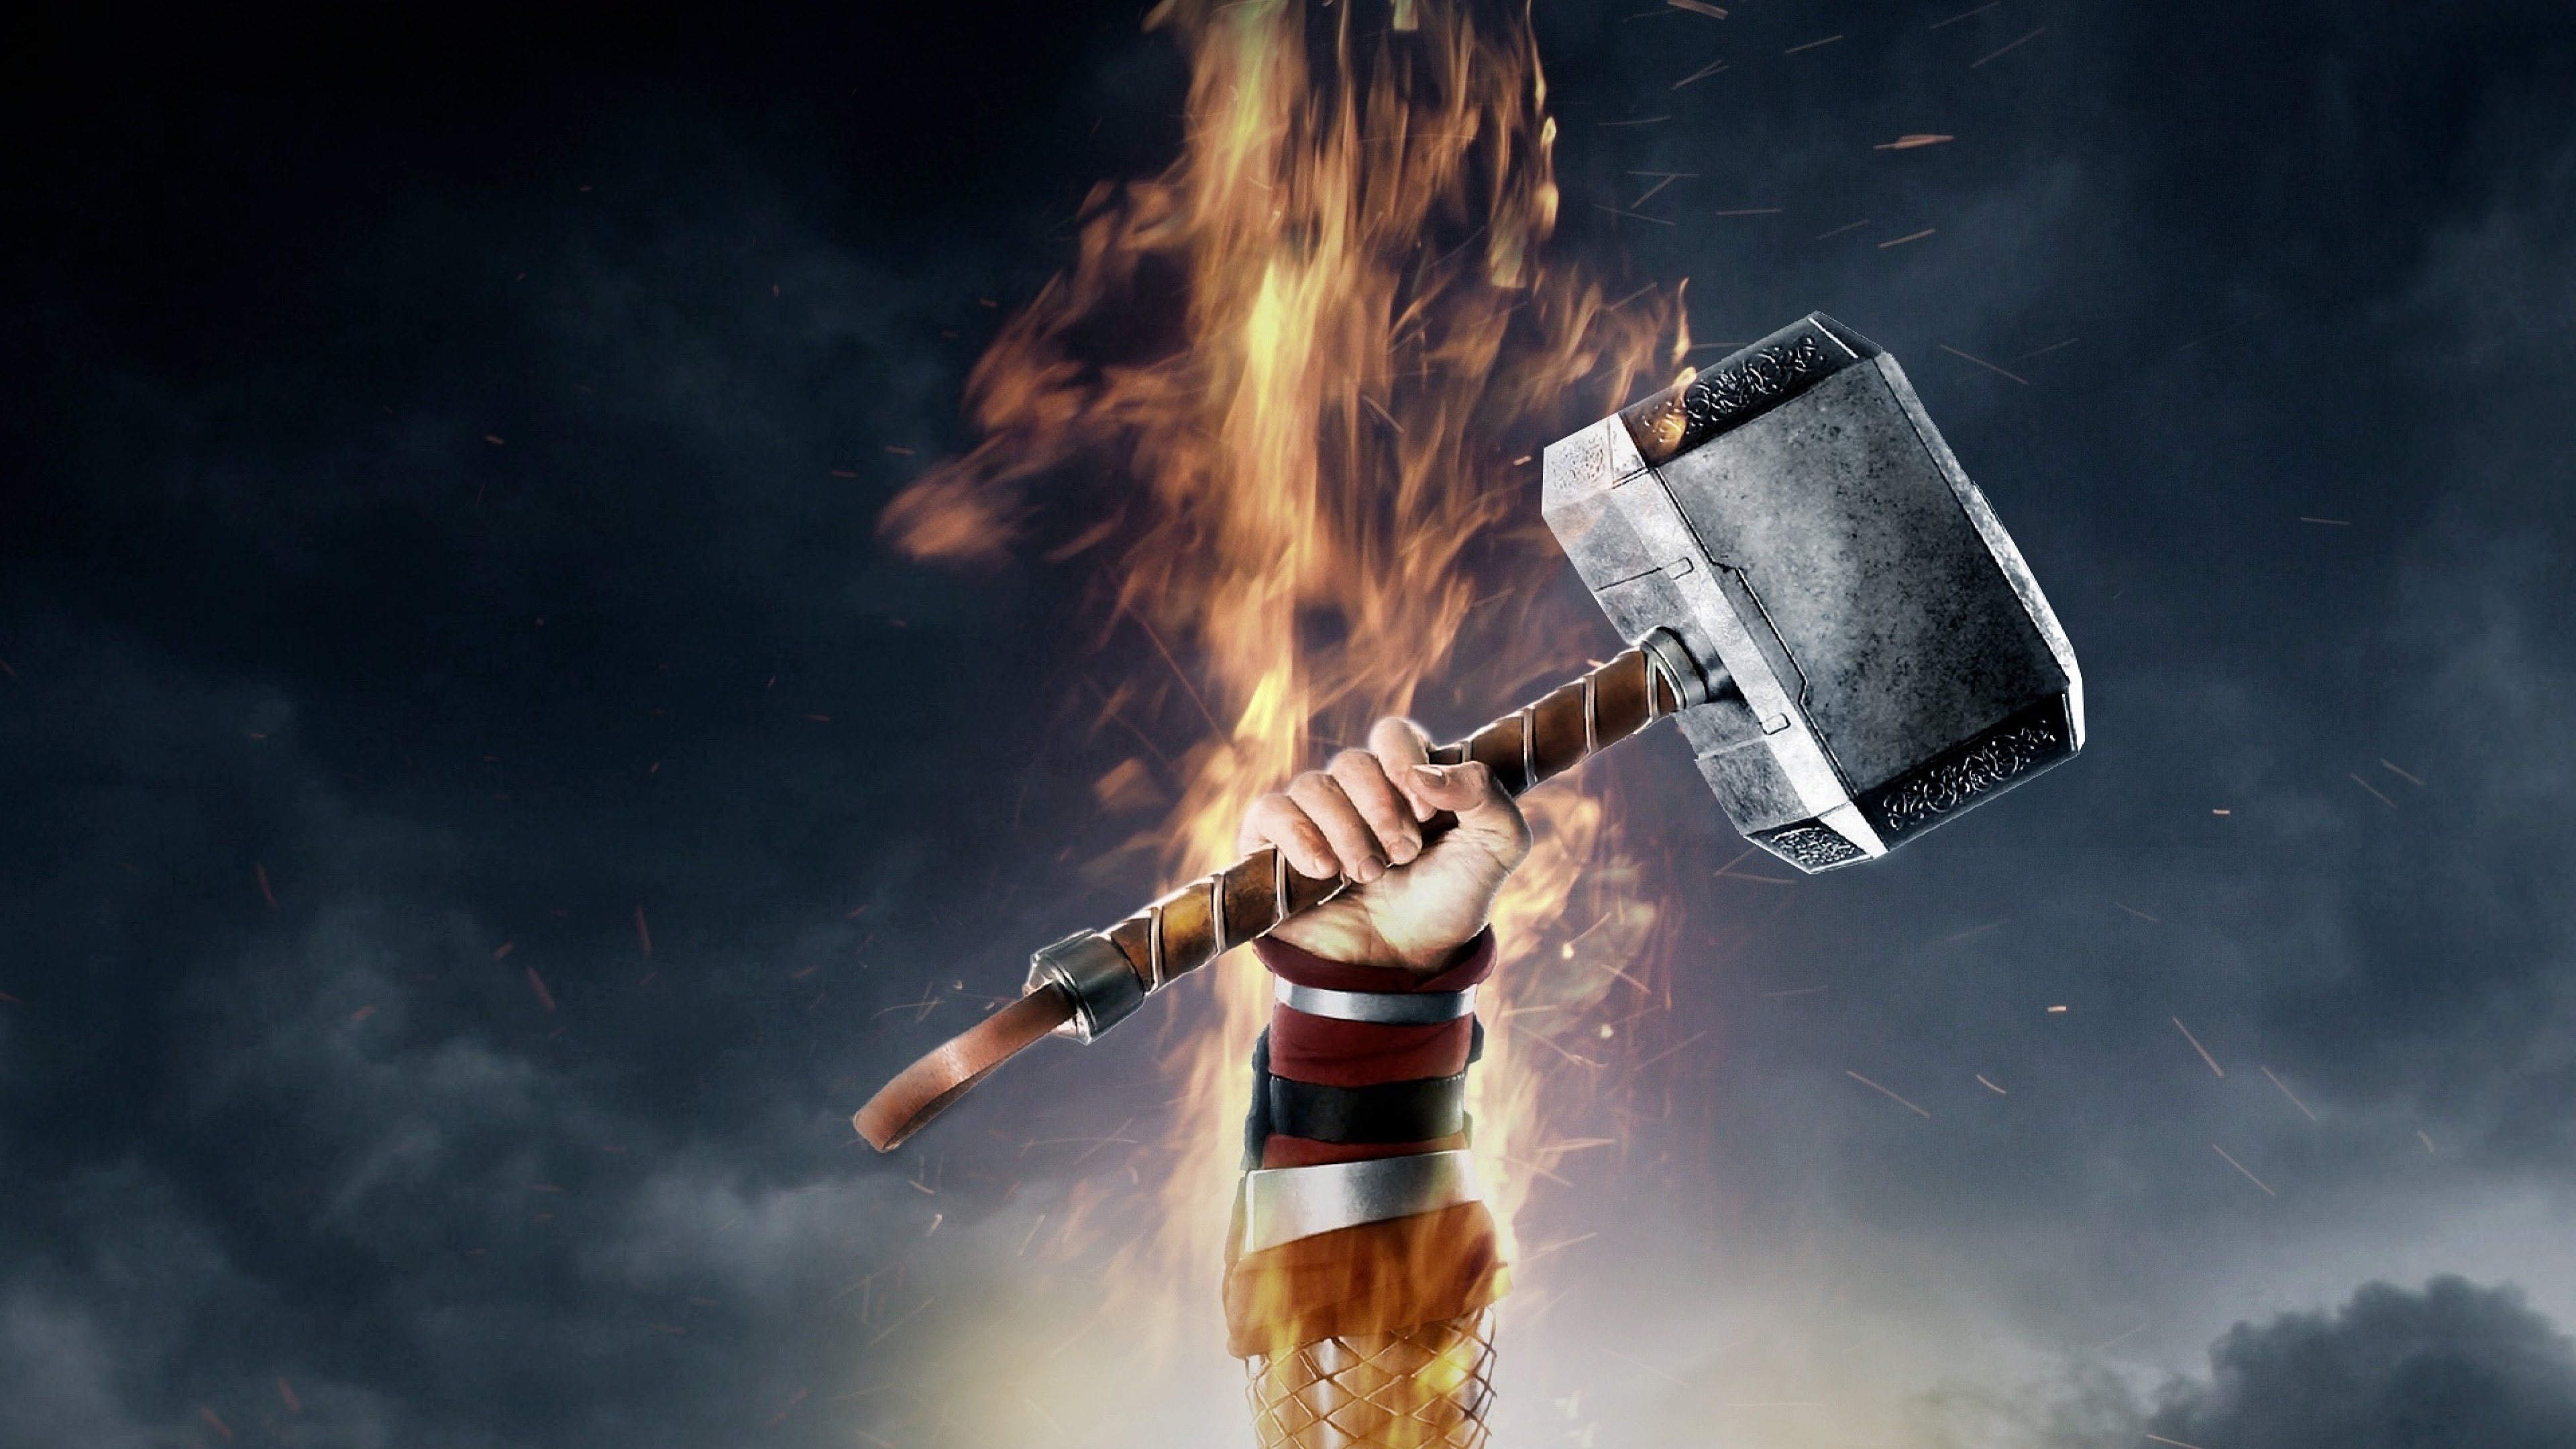THOR Hammer: (901, 310, 2222, 1053), (688, 327, 784, 331)
